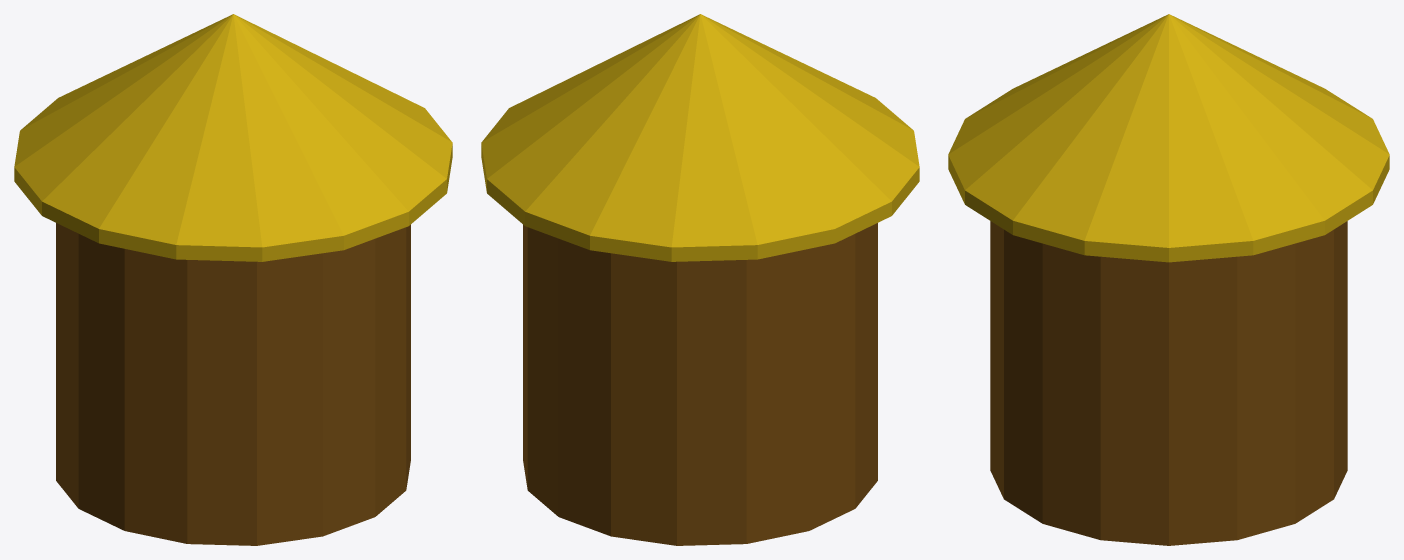
Rendered from hut.glb.
The picture shows the model from 3 angles, left to right: view 1: azimuth 30°, elevation 25°; view 2: azimuth 150°, elevation 25°; view 3: azimuth 270°, elevation 25°; orthographic projection.
Parts seen in each view (by area): view 1: Hut; view 2: Hut; view 3: Hut.
Part boxes in pixels (bbox=[...]): Hut: bbox=[14, 14, 452, 545]; Hut: bbox=[481, 14, 919, 545]; Hut: bbox=[948, 14, 1389, 545].
Bounding box in the file's own units: 0.8898 × 1.01 × 0.8898.
